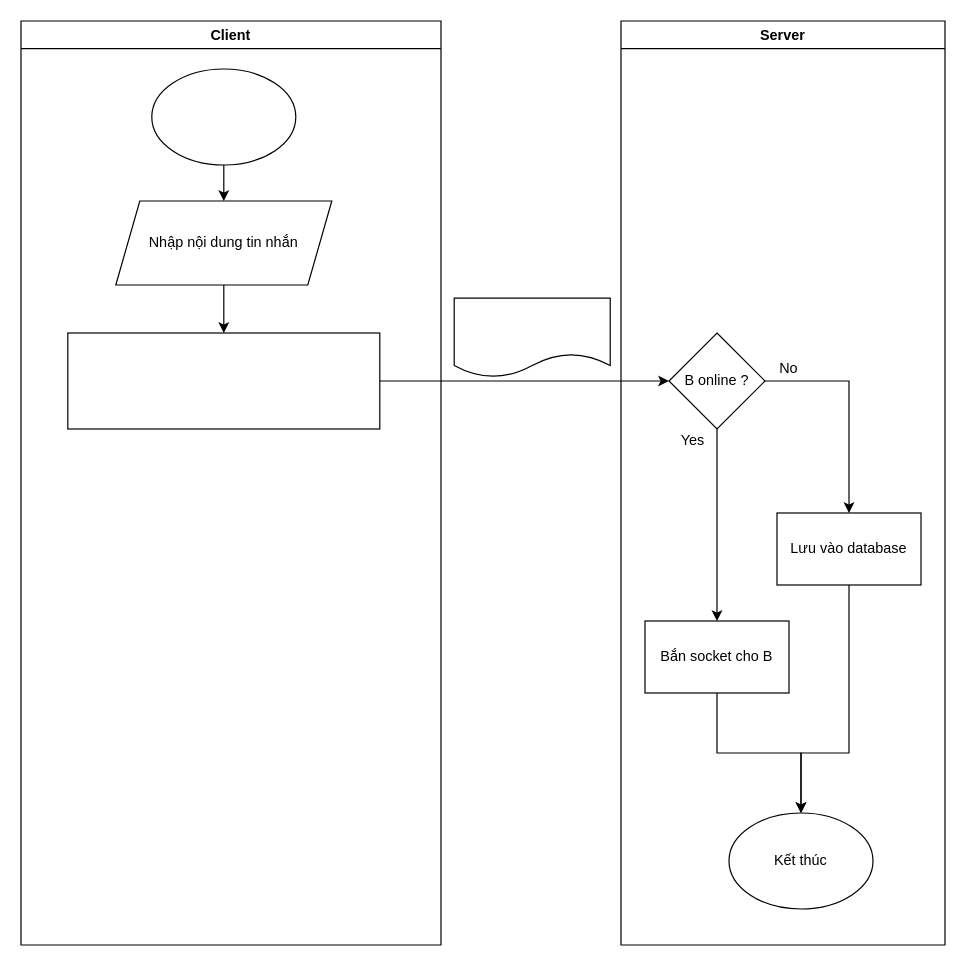
Some shapes in this 966 by 966 pixel diagram are drawn without their labels. The shapes that lost their labels are listed below. From the top down, each one's centre as x and y in pixels, then its label:
At point (223, 116): "Gửi tin nhắn (A nhắn cho B)".
At point (531, 337): "Tin nhắn mã hoá của B".
At point (223, 380): "Tin nhắn lưu lại ở local của A và 1 bản được mã hoá với public key của B".
